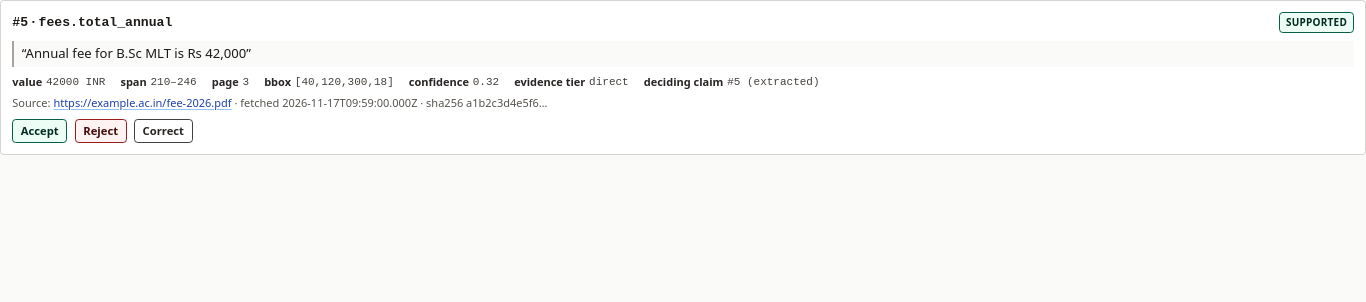
Test: review console (offline render) › warns before rejecting a supported claim and refuses to submit without a note
The image size is (1366, 302).
Click the button "Reject". click: (101, 131)
box: [75,118,126,143]
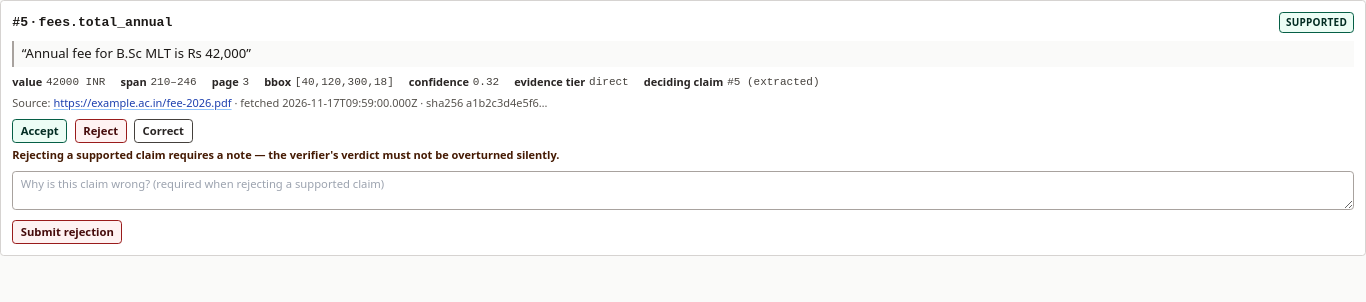
Result: the text "Rejecting a supported claim requires a note" is shown at [12,147,560,162]
Click the button "Submit rejection". click: (67, 232)
box: [12,220,122,244]
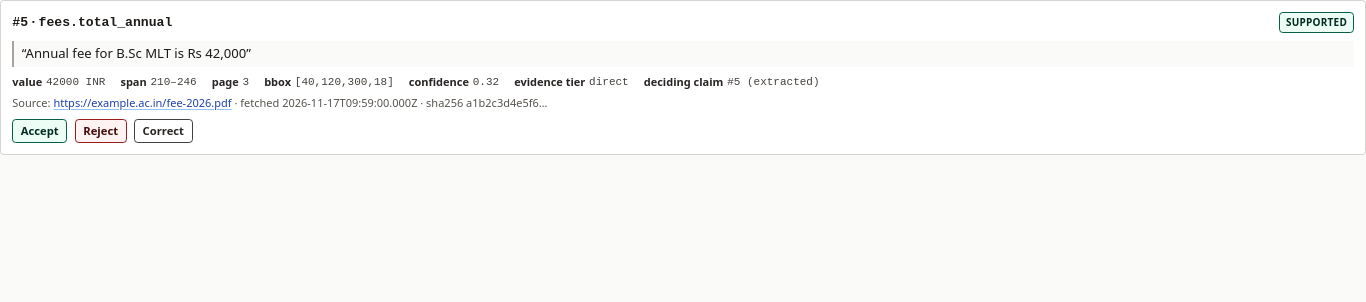
Click the button "Correct". click: (163, 131)
box: [134,118,192,143]
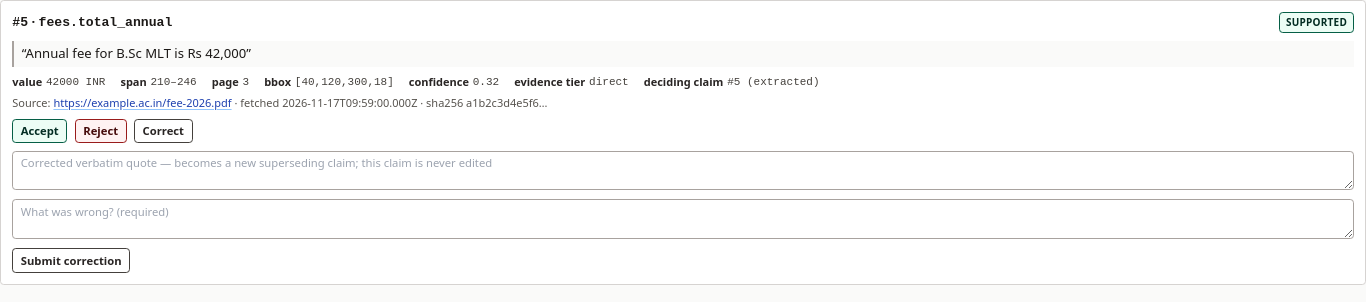
Result: the text box named "corrected quote for claim 5" is shown at [12,150,1354,190]
Result: the text box named "correction note for claim 5" is shown at [12,199,1354,239]
